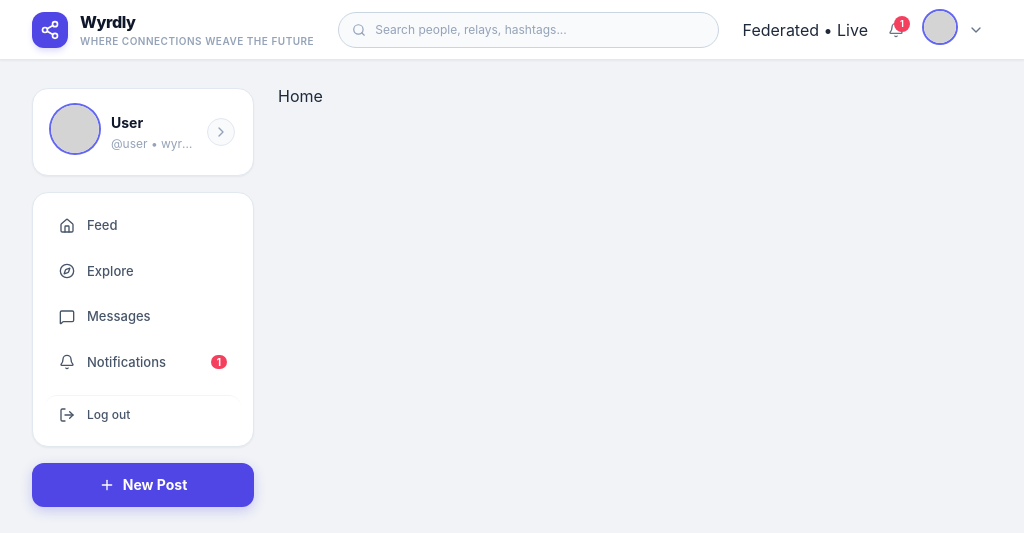
MainLayout Component › marks as read, closes popover, and navigates to /chat when clicking a CHAT_MESSAGE notification
Note: Open notifications popover
What coordinates should you click on to do the following:
click the button with test id "navbar-notifications-btn"
I would click on:
 (896, 30)
Its box is 880,14 -> 912,46.
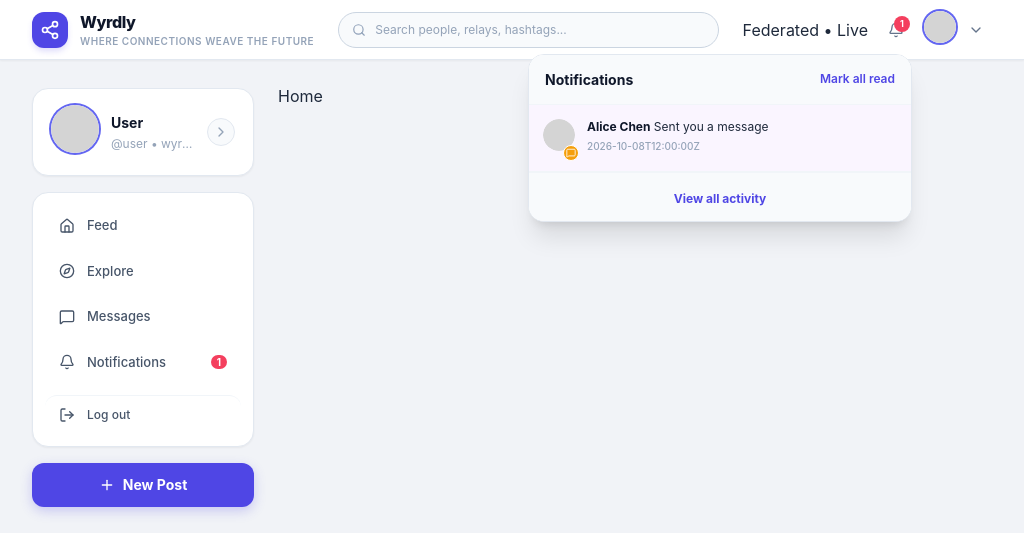
Check: the element with test id "notification-popover" is shown, box 529,54 -> 911,220
Note: Click notification item
What coordinates should you click on to do the following:
click the button with test id "notification-item-notif-chat-1"
I would click on:
 (559, 134)
Its box is 529,104 -> 911,172.
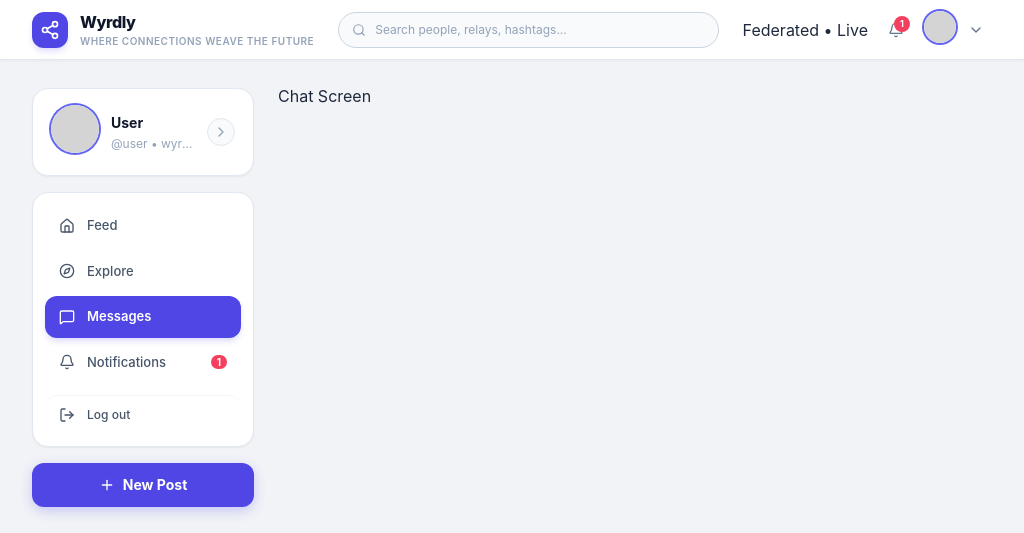
Check: the element with test id "notification-popover" is gone
Check: the text "Chat Screen" is shown, box 278,86 -> 371,106
